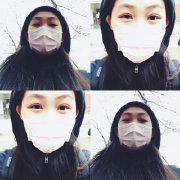OK: (114, 5, 168, 61), (25, 96, 75, 151), (29, 15, 64, 53), (119, 113, 153, 149)
